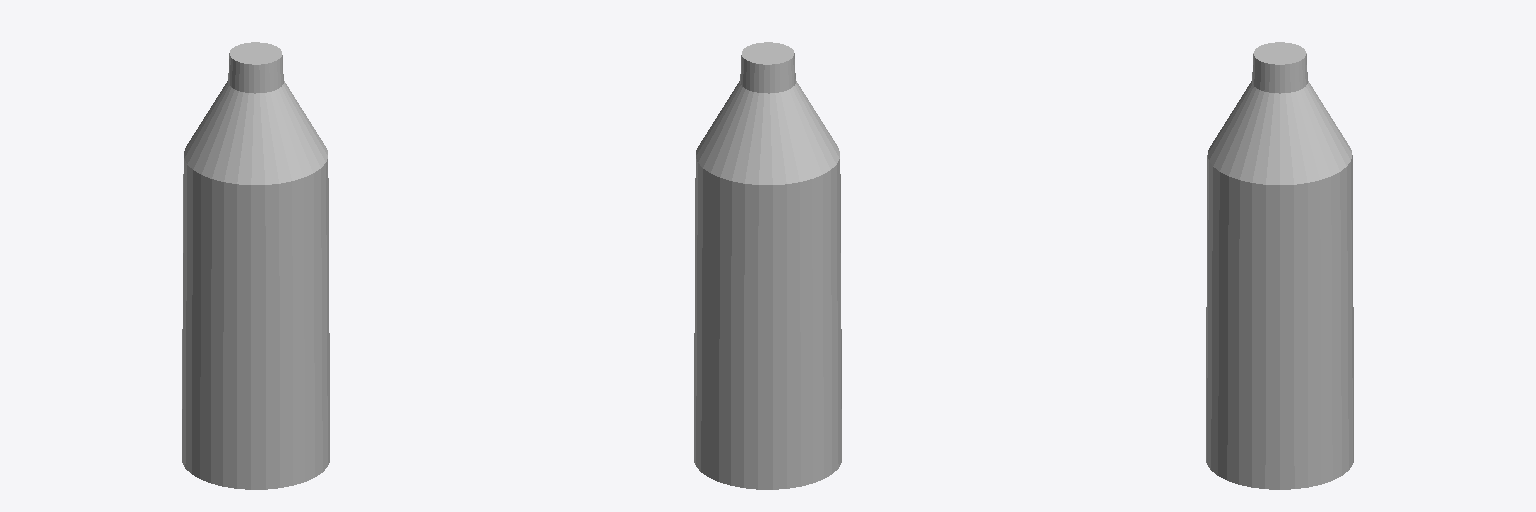
Rendered from Water.obj.
3 renders of one model, left to right at view 1: azimuth 30°, elevation 25°; view 2: azimuth 150°, elevation 25°; view 3: azimuth 270°, elevation 25°, orthographic.
Visible parts, largest first — view 1: Cylinder; view 2: Cylinder; view 3: Cylinder.
Boxes of the visible parts, <box> form: Cylinder: <box>182,42,329,489</box>; Cylinder: <box>694,42,841,489</box>; Cylinder: <box>1206,42,1353,489</box>.
Bounding box in the file's own units: 1.25 × 3.75 × 1.25.